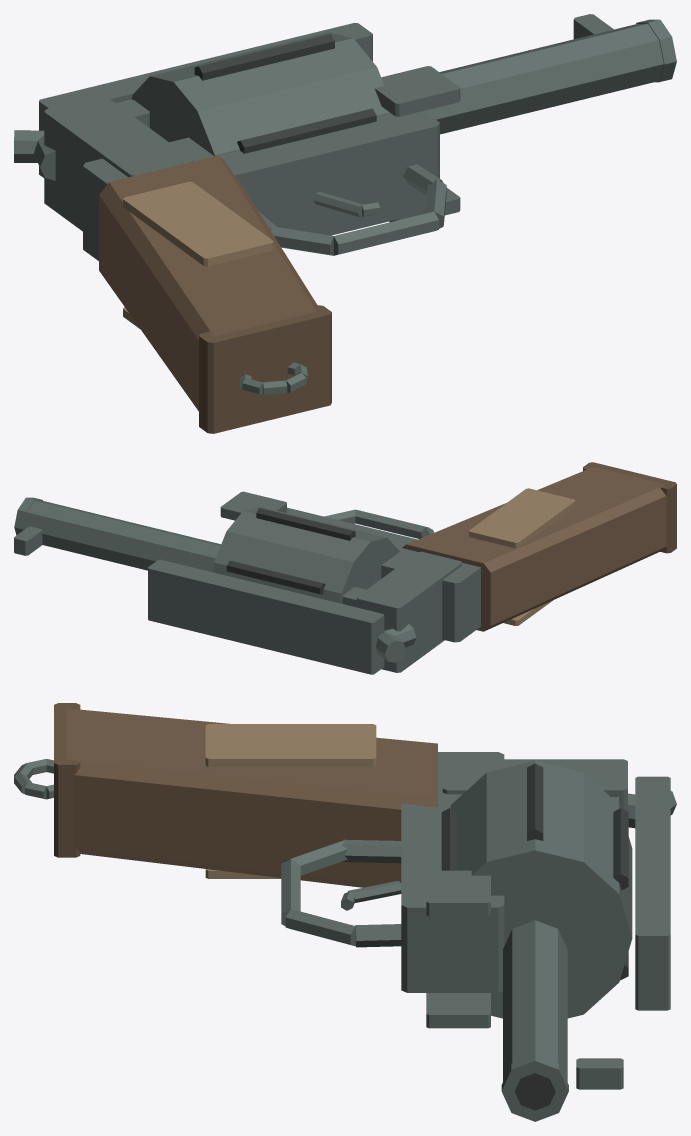
File: weapon-webley-v.glb
The picture shows the model from 3 angles, top to bottom: view 1: azimuth 30°, elevation 25°; view 2: azimuth 150°, elevation 25°; view 3: azimuth 270°, elevation 25°; orthographic projection. The views are drawn at different scales.
Parts seen in each view (by area): view 1: weapon-webley-v/eight-sided-wood-grip, weapon-webley-v/lower-frame, weapon-webley-v/fluted-cylinder, weapon-webley-v/barrel, weapon-webley-v/eight-sided-wood-grip-heel, weapon-webley-v/frame-rear, weapon-webley-v/grip-plaque-left, weapon-webley-v/continuous-top-strap, weapon-webley-v/top-break-hinge-left, weapon-webley-v/cylinder-long-flute-3, weapon-webley-v/hollow-trigger-guard-4, weapon-webley-v/cylinder-long-flute-4 (+8 smaller); view 2: weapon-webley-v/eight-sided-wood-grip, weapon-webley-v/continuous-top-strap, weapon-webley-v/fluted-cylinder, weapon-webley-v/barrel, weapon-webley-v/frame-rear, weapon-webley-v/lower-frame, weapon-webley-v/grip-plaque-left, weapon-webley-v/eight-sided-wood-grip-heel, weapon-webley-v/cylinder-long-flute-2, weapon-webley-v/cylinder-long-flute-3, weapon-webley-v/top-break-hinge-left, weapon-webley-v/hollow-trigger-guard-4 (+4 smaller); view 3: weapon-webley-v/eight-sided-wood-grip, weapon-webley-v/fluted-cylinder, weapon-webley-v/lower-frame, weapon-webley-v/barrel, weapon-webley-v/continuous-top-strap, weapon-webley-v/grip-plaque-left, weapon-webley-v/frame-rear, weapon-webley-v/top-break-hinge-left, weapon-webley-v/eight-sided-wood-grip-heel, weapon-webley-v/barrel-end-rim, weapon-webley-v/top-break-hinge-right, weapon-webley-v/front-sight (+10 smaller).
Boxes of the visible parts, left/top/right/bottom form: weapon-webley-v/eight-sided-wood-grip: left=99, top=155, right=316, bottom=411; weapon-webley-v/lower-frame: left=83, top=111, right=439, bottom=260; weapon-webley-v/fluted-cylinder: left=131, top=32, right=390, bottom=156; weapon-webley-v/barrel: left=424, top=23, right=663, bottom=134; weapon-webley-v/eight-sided-wood-grip-heel: left=199, top=305, right=331, bottom=433; weapon-webley-v/frame-rear: left=44, top=96, right=193, bottom=231; weapon-webley-v/grip-plaque-left: left=123, top=181, right=273, bottom=266; weapon-webley-v/continuous-top-strap: left=39, top=23, right=372, bottom=177; weapon-webley-v/top-break-hinge-left: left=374, top=66, right=460, bottom=116; weapon-webley-v/cylinder-long-flute-3: left=194, top=34, right=334, bottom=80; weapon-webley-v/hollow-trigger-guard-4: left=333, top=211, right=438, bottom=255; weapon-webley-v/cylinder-long-flute-4: left=237, top=108, right=376, bottom=153; weapon-webley-v/eight-sided-wood-grip: left=402, top=467, right=666, bottom=631; weapon-webley-v/continuous-top-strap: left=148, top=559, right=384, bottom=674; weapon-webley-v/fluted-cylinder: left=213, top=506, right=399, bottom=603; weapon-webley-v/barrel: left=23, top=500, right=220, bottom=572; weapon-webley-v/frame-rear: left=356, top=551, right=461, bottom=672; weapon-webley-v/lower-frame: left=287, top=507, right=480, bottom=642; weapon-webley-v/grip-plaque-left: left=469, top=488, right=575, bottom=548; weapon-webley-v/eight-sided-wood-grip-heel: left=583, top=462, right=676, bottom=553; weapon-webley-v/cylinder-long-flute-2: left=226, top=560, right=325, bottom=594; weapon-webley-v/cylinder-long-flute-3: left=256, top=508, right=355, bottom=540; weapon-webley-v/top-break-hinge-left: left=220, top=491, right=286, bottom=520; weapon-webley-v/hollow-trigger-guard-4: left=355, top=509, right=429, bottom=538; weapon-webley-v/eight-sided-wood-grip: left=67, top=708, right=437, bottom=887; weapon-webley-v/fluted-cylinder: left=450, top=760, right=632, bottom=1018; weapon-webley-v/lower-frame: left=401, top=752, right=504, bottom=992; weapon-webley-v/barrel: left=503, top=920, right=567, bottom=1081; weapon-webley-v/continuous-top-strap: left=635, top=776, right=670, bottom=1010; weapon-webley-v/grip-plaque-left: left=205, top=724, right=376, bottom=766; weapon-webley-v/frame-rear: left=442, top=759, right=627, bottom=811; weapon-webley-v/top-break-hinge-left: left=426, top=870, right=490, bottom=916; weapon-webley-v/eight-sided-wood-grip-heel: left=54, top=703, right=80, bottom=857; weapon-webley-v/barrel-end-rim: left=501, top=1054, right=568, bottom=1121; weapon-webley-v/top-break-hinge-right: left=426, top=993, right=490, bottom=1028; weapon-webley-v/front-sight: left=576, top=1058, right=623, bottom=1089.
Size of the model in its own units: 0.2754 by 0.0734 by 0.2252.
4 materials, 4 textured.
